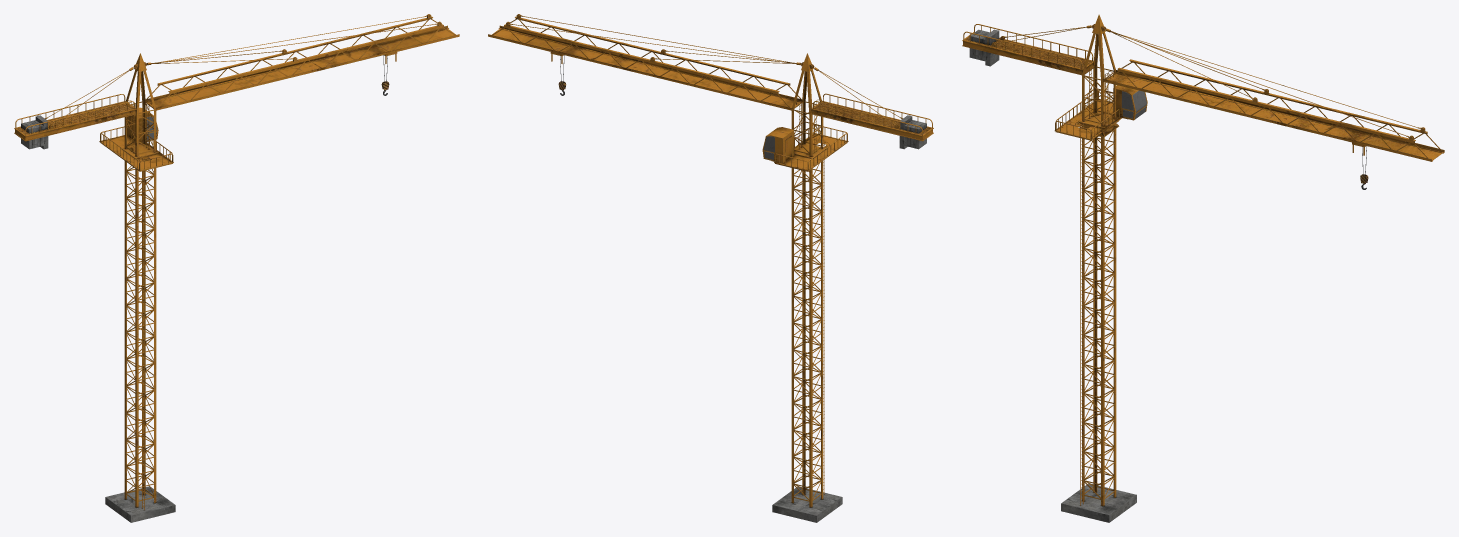
Rendered from tower_crane.glb.
3 views of the same model, side by side, from view 1: azimuth 30°, elevation 25°; view 2: azimuth 150°, elevation 25°; view 3: azimuth 330°, elevation 25° (orthographic). The views are drawn at different scales.
Parts seen in each view (by area): view 1: Cube.052, Cube.055, Plane.023, Cube.073, Cube.053, Cube.054, Cube.056, Cube.101, Plane.029, Cube.074; view 2: Cube.052, Cube.055, Plane.023, Cube.073, Cube.053, Cube.054, Cube.056, Cube.101, Cube.072, Cube.075, Cube.074; view 3: Cube.052, Cube.055, Plane.023, Cube.073, Cube.053, Cube.054, Cube.056, Plane.029, Cube.074, Cube.101, Cube.075.
Part boxes in pixels (x1,y1,x2,y2): Cube.052: (124,161,156,507); Cube.055: (145,16,459,110); Plane.023: (147,29,455,107); Cube.073: (105,486,175,522); Cube.053: (124,70,156,156); Cube.054: (14,101,136,141); Cube.056: (16,101,134,134); Cube.101: (102,136,171,169); Plane.029: (137,155,144,510); Cube.074: (138,175,153,501); Cube.052: (791,161,823,507); Cube.055: (488,16,802,110); Plane.023: (491,29,800,107); Cube.073: (772,486,842,522); Cube.053: (791,70,823,156); Cube.054: (811,100,933,141); Cube.056: (814,101,931,134); Cube.101: (776,134,845,169); Cube.072: (762,127,794,163); Cube.075: (794,175,809,501); Cube.074: (804,169,821,493); Cube.052: (1082,129,1116,506); Cube.055: (1103,59,1444,161); Plane.023: (1106,73,1442,160); Cube.073: (1061,483,1136,522); Cube.053: (1082,32,1116,126); Cube.054: (962,32,1094,75); Cube.056: (965,36,1092,68); Plane.029: (1075,120,1083,505); Cube.074: (1084,136,1100,499); Cube.101: (1057,100,1118,138); Cube.075: (1095,137,1114,490).
Size of the model in its own units: 59.87 by 60 by 9.62.
7 materials, 7 textured.
